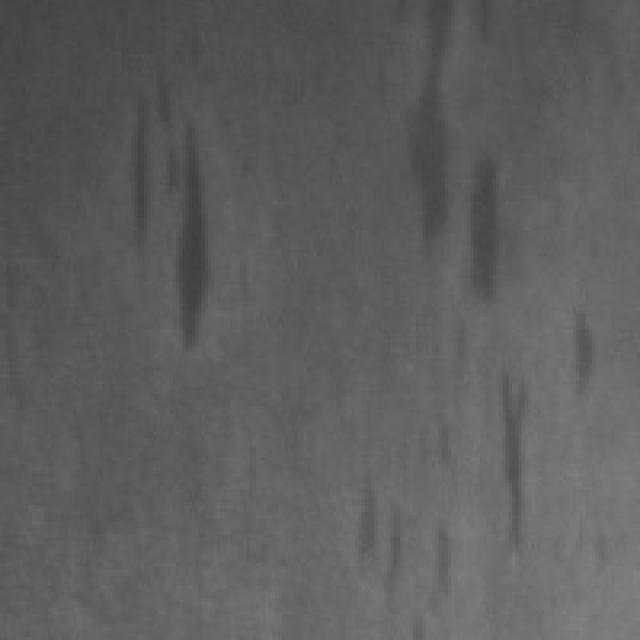inclusion: (125, 58, 230, 362), (397, 0, 474, 262), (349, 468, 470, 614), (477, 362, 547, 560), (461, 144, 534, 307), (564, 298, 614, 403)
